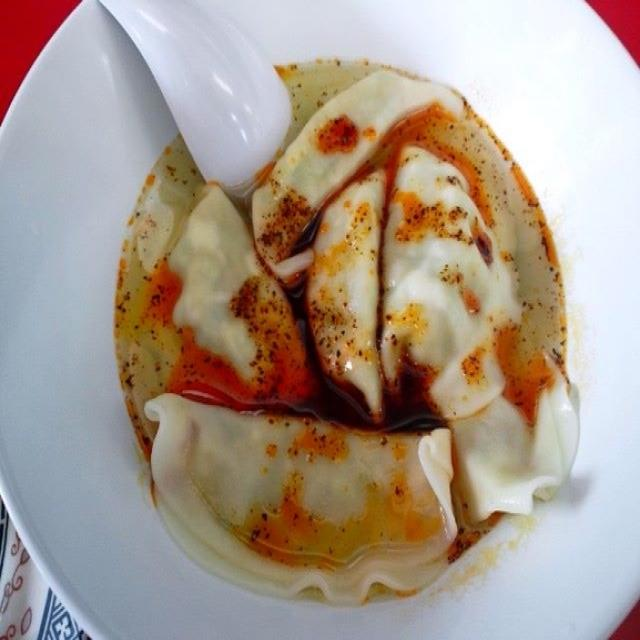带馅早点: (1, 5, 631, 631)
